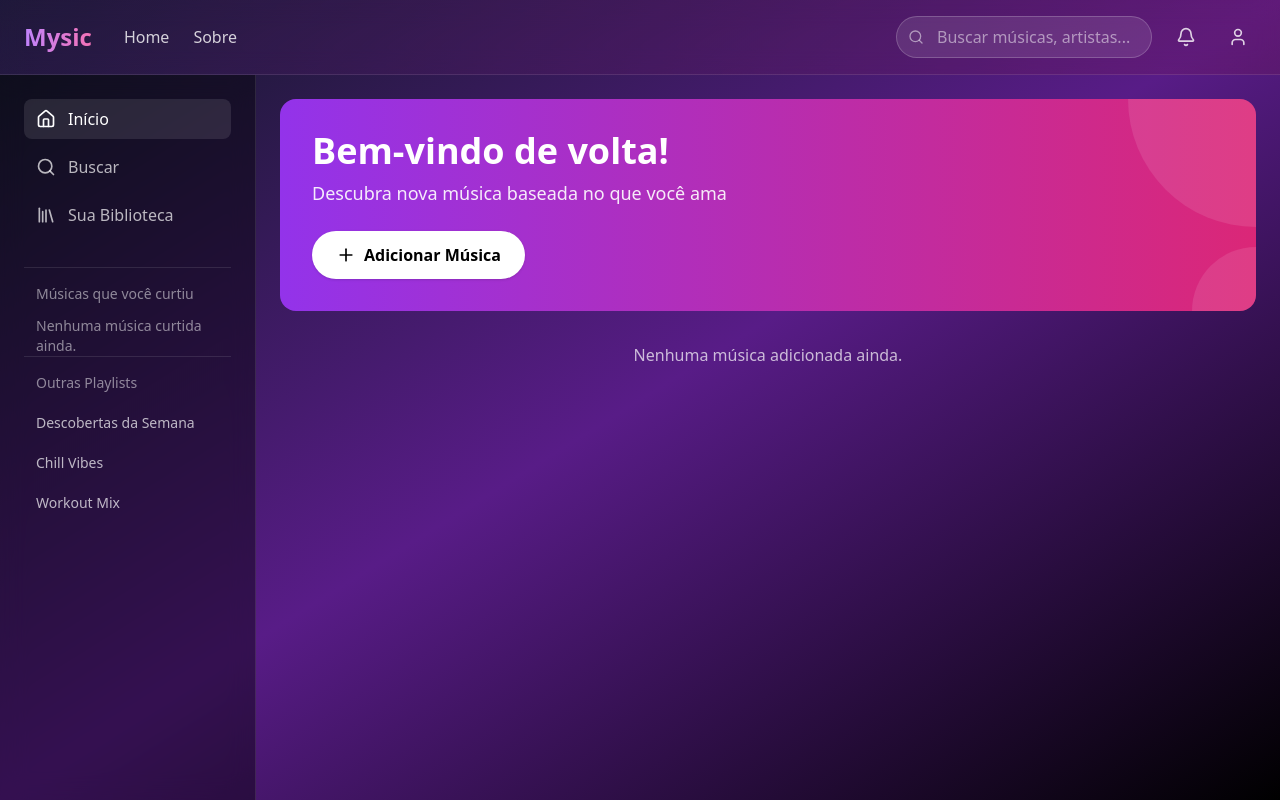
Add Music Panel › should hide the Add button when clicking Cancel
Click the button "Adicionar Música" at point(419, 255), box [312,231,525,279]
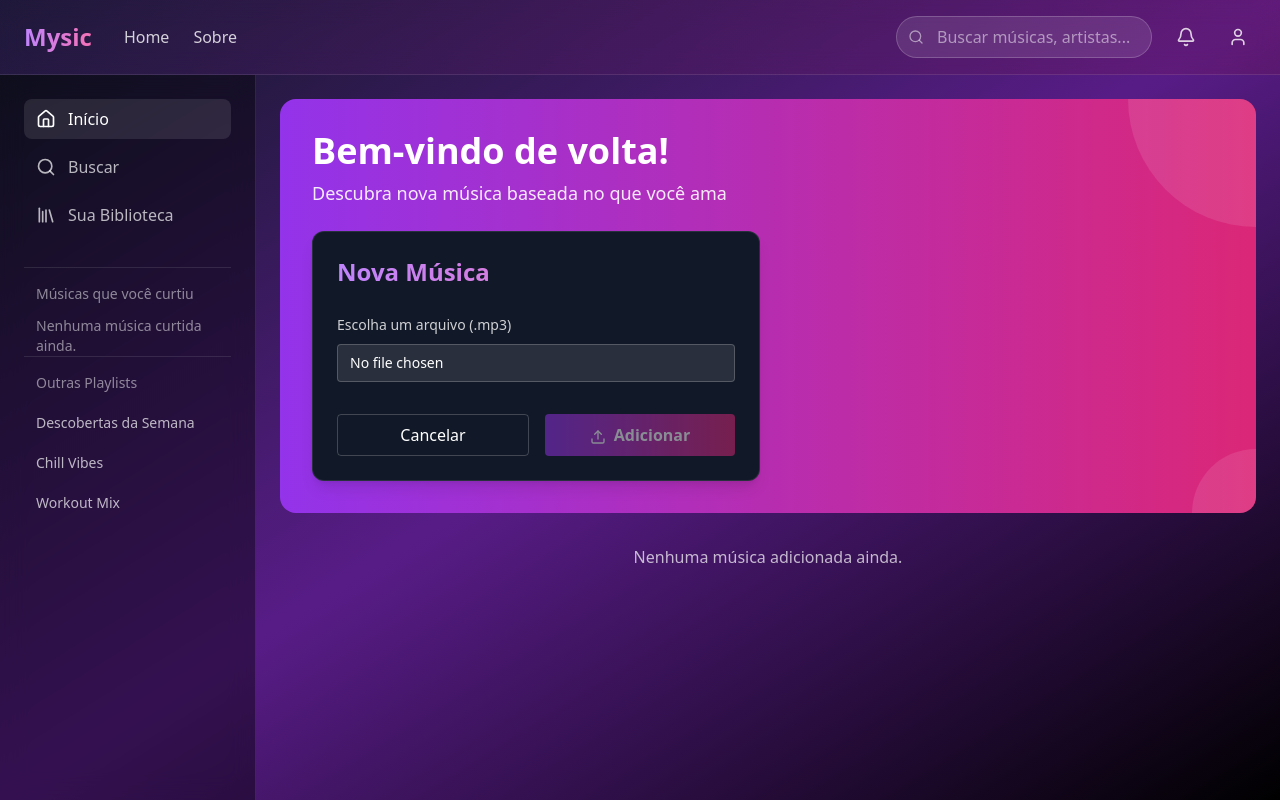
Check: the button "Adicionar" is shown, box [545,414,735,456]
Click the button "Cancelar" at point(433, 435), box [337,414,529,456]
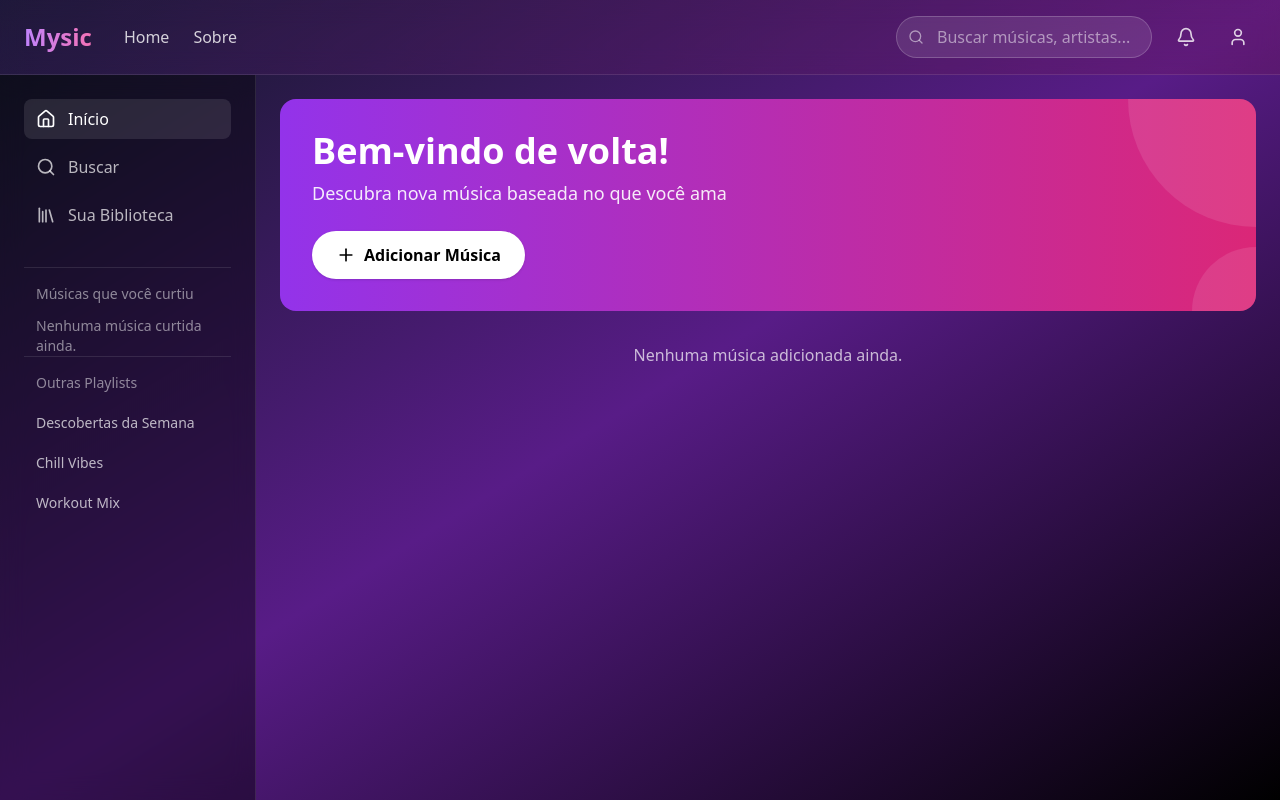
Check: the button "Adicionar Música" is shown, box [312,231,525,279]
